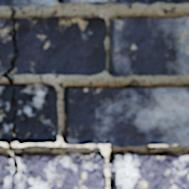brick: (63, 85, 188, 146), (109, 16, 188, 76), (109, 151, 188, 188), (59, 0, 188, 4)
broken_brick: (11, 15, 108, 76), (0, 150, 107, 188), (14, 82, 59, 144), (0, 83, 12, 143), (0, 16, 12, 72), (0, 0, 56, 7)
crack: (0, 2, 29, 186)
